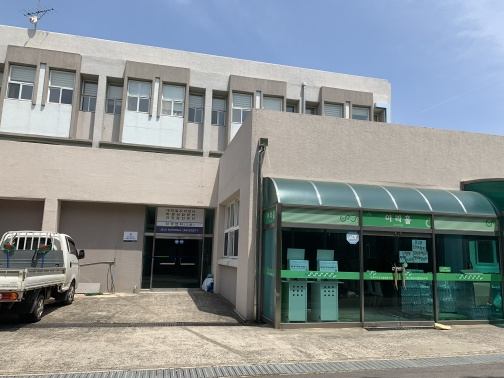Ara Hall: (211, 102, 504, 344), (253, 161, 494, 332)
